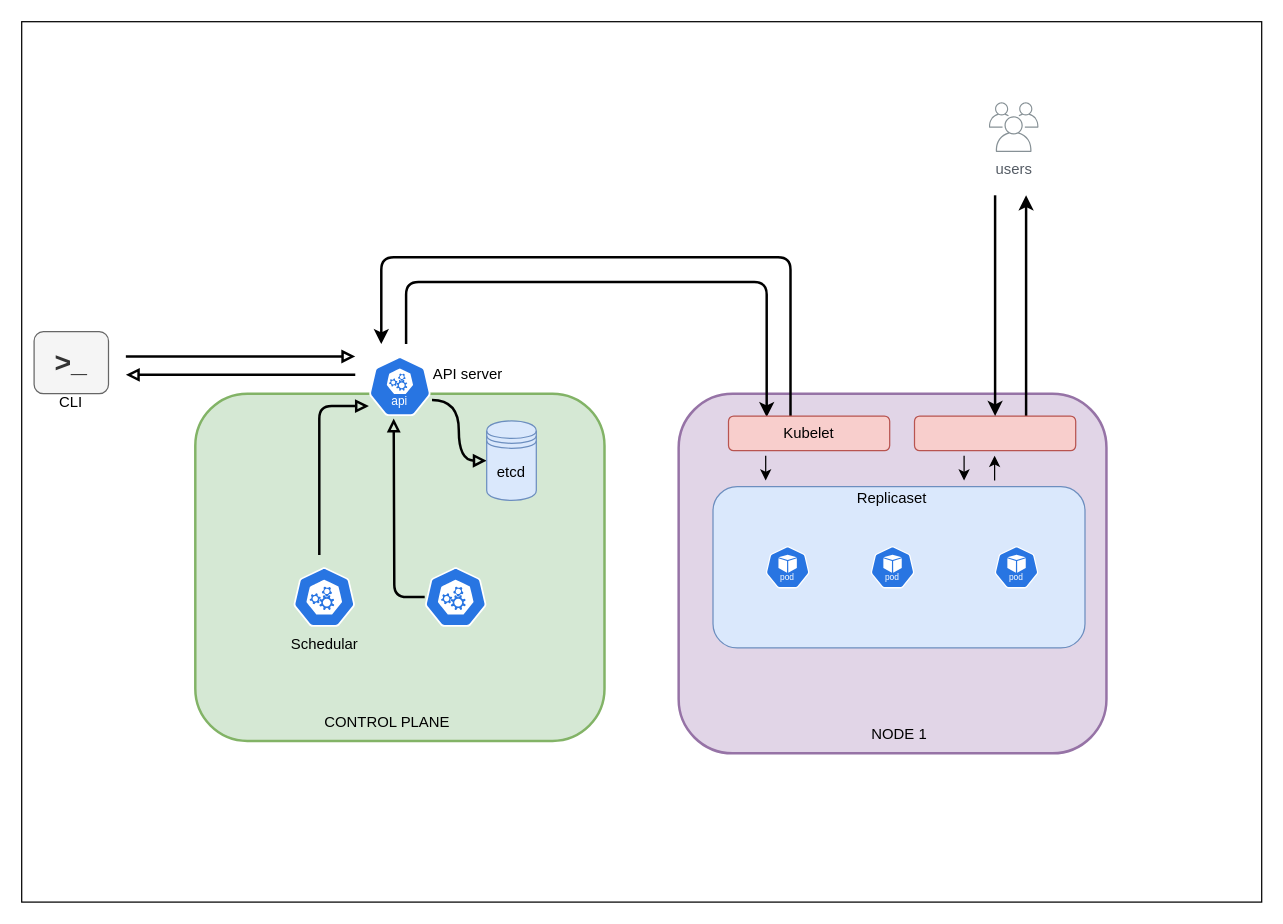
This 1283x924 diagram has some shape labels left out. The centre of each missing label's shape, as x and y in pixels:
Control Manager: the point at 455,596
kube-proxy: the point at 994,433
